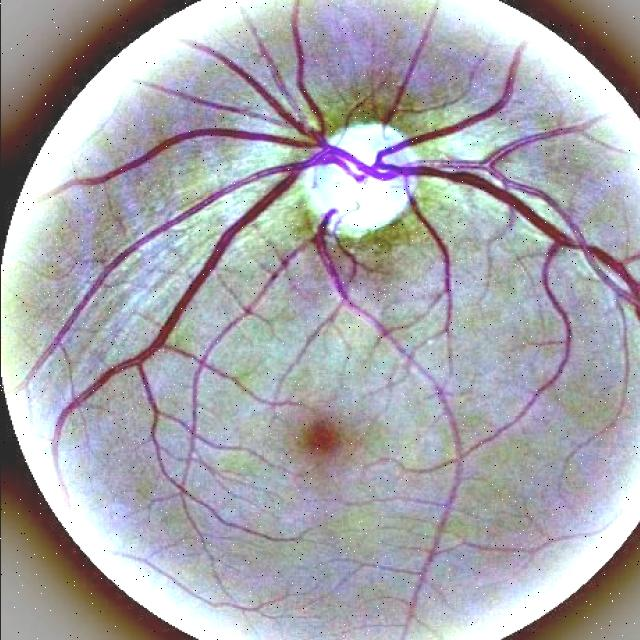Macula: (297, 414, 349, 463)
Nerves: (24, 0, 640, 451), (195, 248, 303, 371), (310, 209, 390, 337), (380, 3, 437, 134), (259, 38, 298, 107)
Optic Disk: (308, 120, 420, 235)
